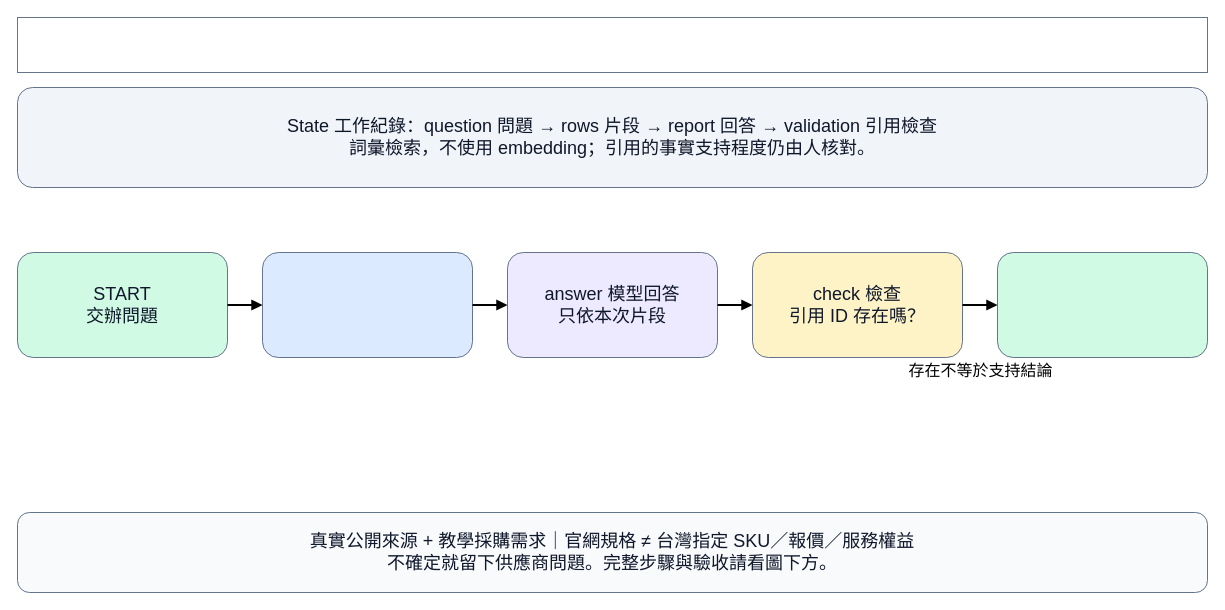
This 1225x610 diagram has some shape labels left out. The shapes that lost their labels are listed below. From the top down, each one's centre as x and y in pixels, then its label:
At [612,44]: "L03｜RAG：問題、片段與可驗證的引用".
At [367,305]: "retrieve 檢索 排除桌機／未核實線索".
At [1102,305]: "END 答案＋缺口＋來源".
